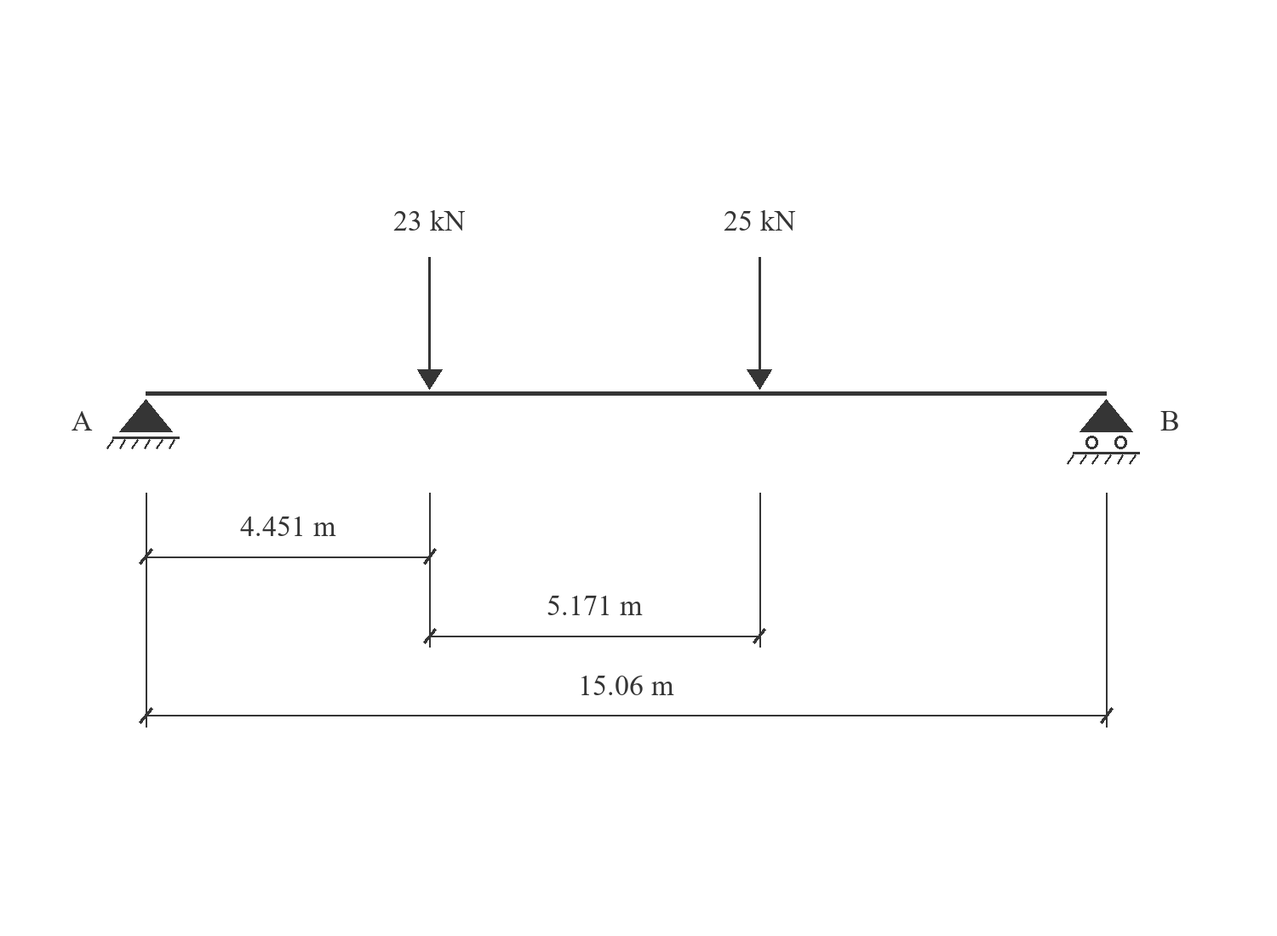pin_support: (106, 399, 180, 449)
point_load: (417, 257, 443, 390), (747, 257, 772, 390)
roller_support: (1067, 399, 1140, 465)
